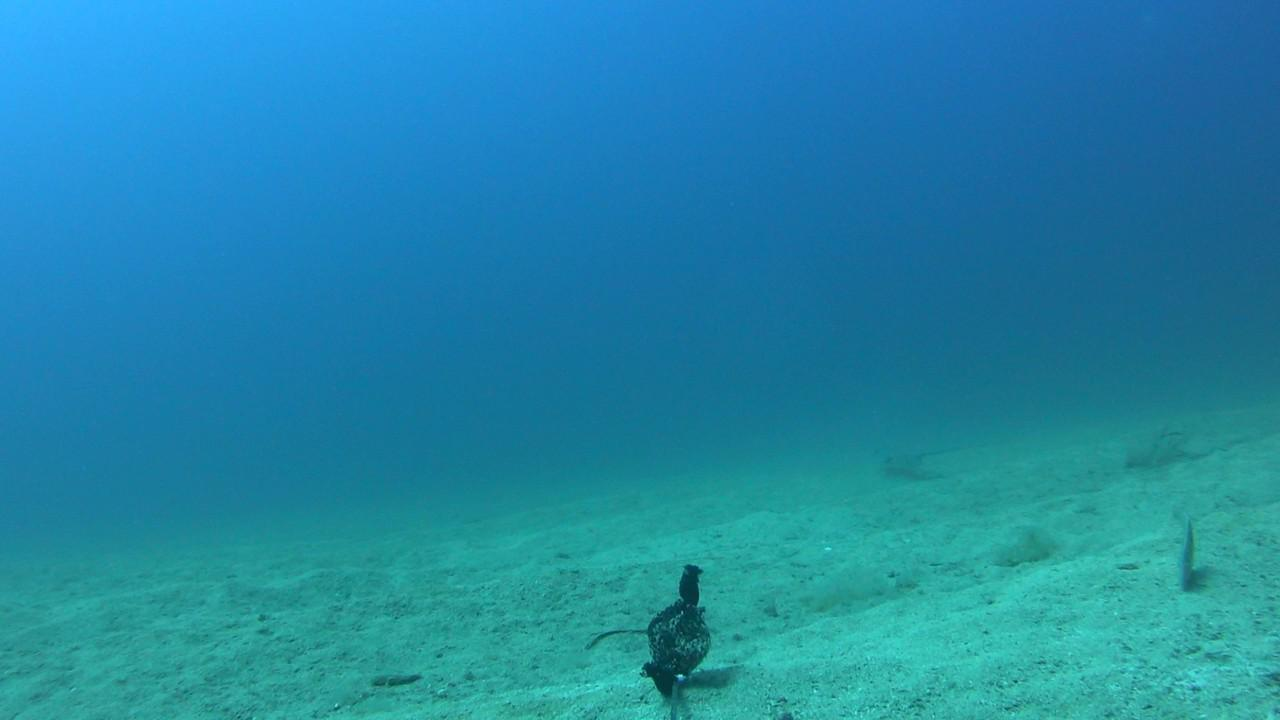myliobatis: (872, 428, 1009, 479)
raor: (1168, 501, 1200, 593)
